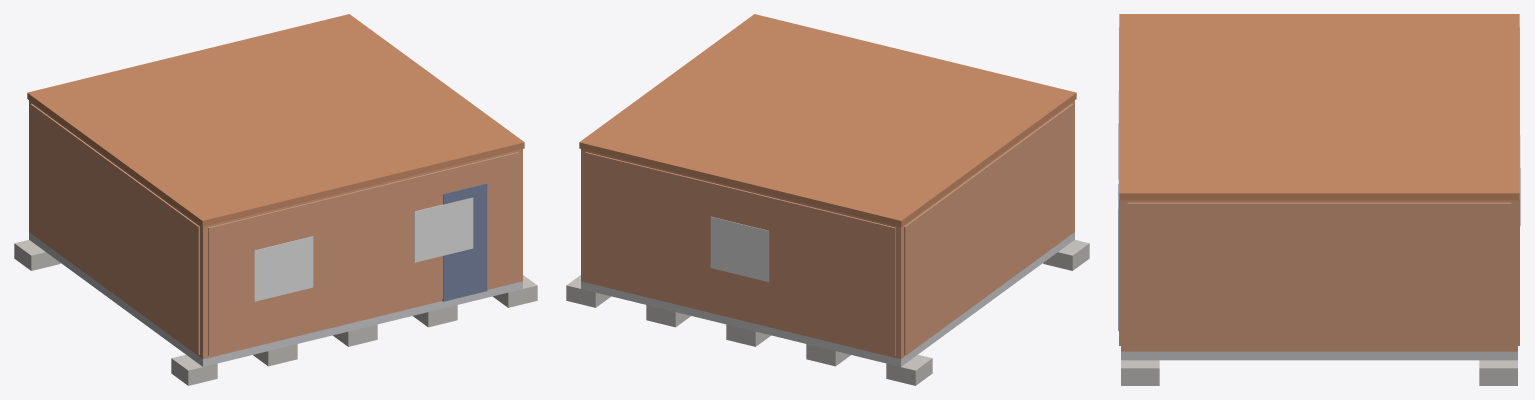
The model's file is Studio-20-Base-Terracotta-LOD0.glb.
3 renders of one model, left to right at view 1: azimuth 30°, elevation 25°; view 2: azimuth 150°, elevation 25°; view 3: azimuth 270°, elevation 25°, orthographic. The views are drawn at different scales.
Visible parts, largest first — view 1: RoofMain, ExteriorPanelsStandard, WindowsStandard, FoundationBlocks, BaseFrame, ExteriorShell, EntryDoor; view 2: ExteriorPanelsStandard, RoofMain, FoundationBlocks, BaseFrame, ExteriorShell, WindowsStandard; view 3: RoofMain, ExteriorPanelsStandard, ExteriorShell, BaseFrame, FoundationBlocks.
Part boxes in pixels (x1=…): RoofMain: x1=27, y1=14, x2=524, y2=226; ExteriorPanelsStandard: x1=30, y1=103, x2=518, y2=355; WindowsStandard: x1=254, y1=197, x2=473, y2=301; FoundationBlocks: x1=14, y1=240, x2=537, y2=385; BaseFrame: x1=29, y1=232, x2=522, y2=366; ExteriorShell: x1=29, y1=100, x2=522, y2=359; EntryDoor: x1=442, y1=183, x2=487, y2=301; ExteriorPanelsStandard: x1=585, y1=103, x2=1073, y2=355; RoofMain: x1=579, y1=14, x2=1076, y2=226; FoundationBlocks: x1=566, y1=240, x2=1089, y2=385; BaseFrame: x1=581, y1=232, x2=1074, y2=366; ExteriorShell: x1=581, y1=100, x2=1074, y2=359; WindowsStandard: x1=710, y1=216, x2=769, y2=281; RoofMain: x1=1119, y1=14, x2=1519, y2=200; ExteriorPanelsStandard: x1=1119, y1=27, x2=1519, y2=349; ExteriorShell: x1=1121, y1=200, x2=1517, y2=351; BaseFrame: x1=1121, y1=351, x2=1517, y2=360; FoundationBlocks: x1=1121, y1=360, x2=1517, y2=385.
Size of the model in its own units: 7.14 by 3.17 by 6.24.
